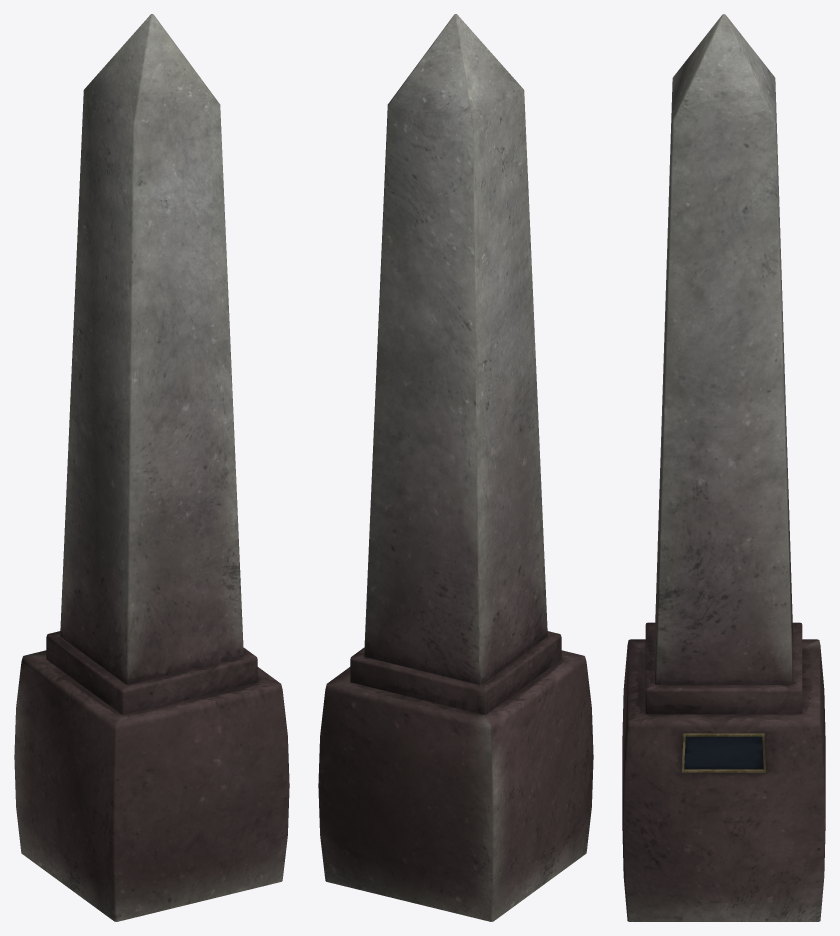
File: gravestone_large.obj
3 renders of one model, left to right at view 1: azimuth 30°, elevation 25°; view 2: azimuth 150°, elevation 25°; view 3: azimuth 270°, elevation 25°, orthographic.
Parts seen in each view (by area): view 1: Gravestone_Large01; view 2: Gravestone_Large01; view 3: Gravestone_Large01.
Part boxes in pixels (bbox=[...]): Gravestone_Large01: bbox=[14, 14, 289, 921]; Gravestone_Large01: bbox=[318, 14, 593, 921]; Gravestone_Large01: bbox=[622, 14, 825, 921].
Bounding box in the file's own units: 6.13 × 27.81 × 5.92.
Materials: 1 (1 with a texture image).
